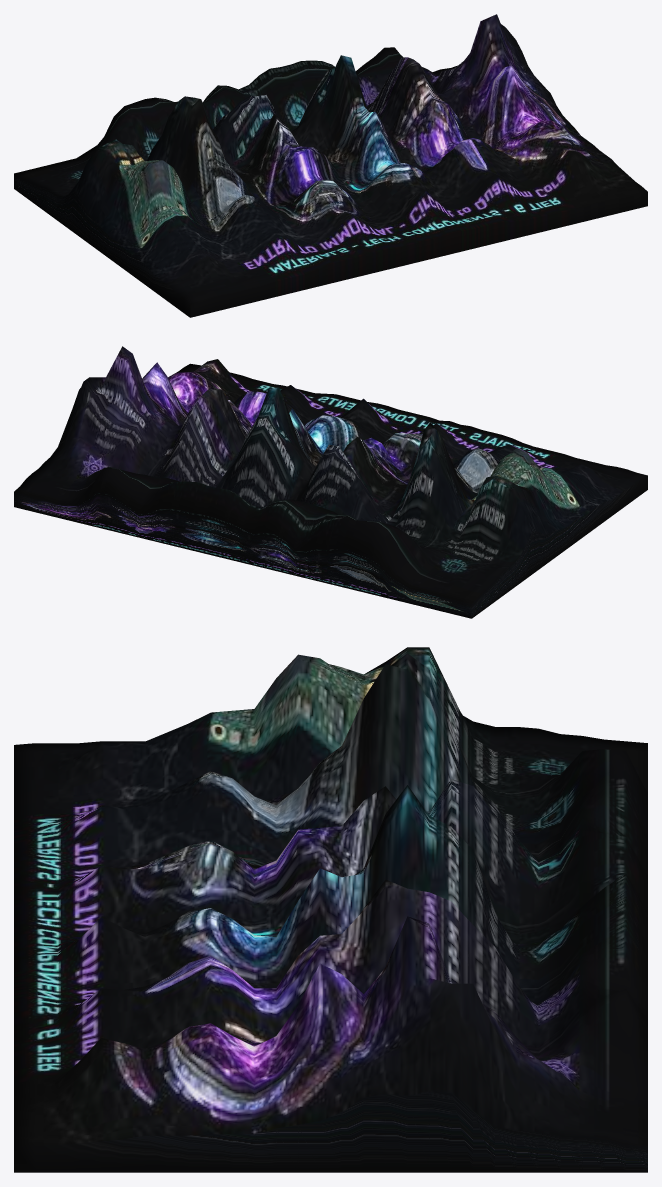
File: MATERIAL_Tech_Components_6Tier.glb
3 views of the same model, one above another, from view 1: azimuth 30°, elevation 25°; view 2: azimuth 150°, elevation 25°; view 3: azimuth 270°, elevation 25° (orthographic). The views are drawn at different scales.
Parts seen in each view (by area): view 1: MATERIAL_Tech_Components_6Tier; view 2: MATERIAL_Tech_Components_6Tier; view 3: MATERIAL_Tech_Components_6Tier.
Part boxes in pixels (x1=…): MATERIAL_Tech_Components_6Tier: x1=14, y1=14, x2=647, y2=317; MATERIAL_Tech_Components_6Tier: x1=14, y1=346, x2=647, y2=618; MATERIAL_Tech_Components_6Tier: x1=14, y1=647, x2=647, y2=1172.
Size of the model in its own units: 2 by 0.51 by 1.33.
Materials: 1 (1 with a texture image).
